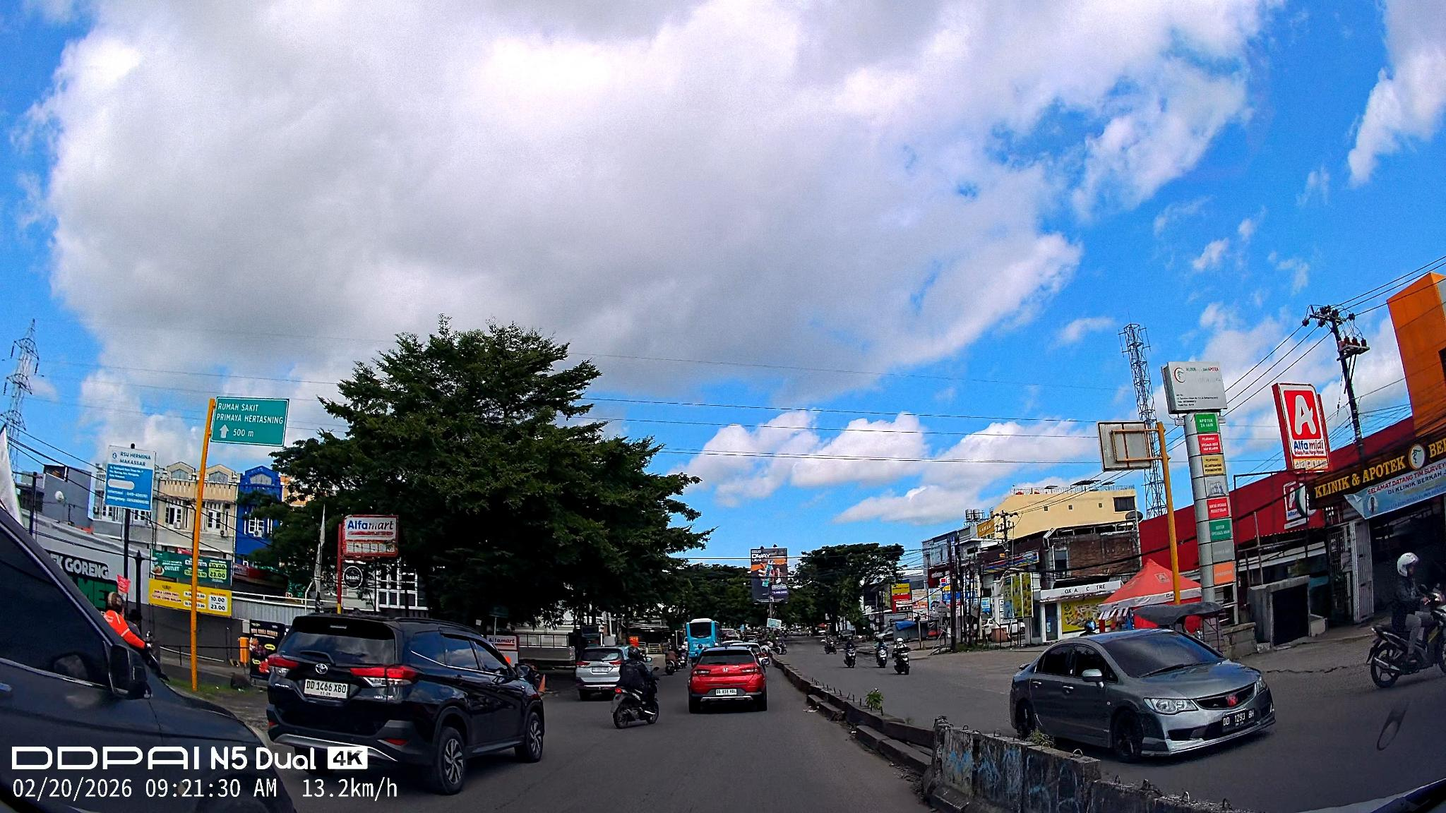rambu_teks: (211, 397, 289, 447)
